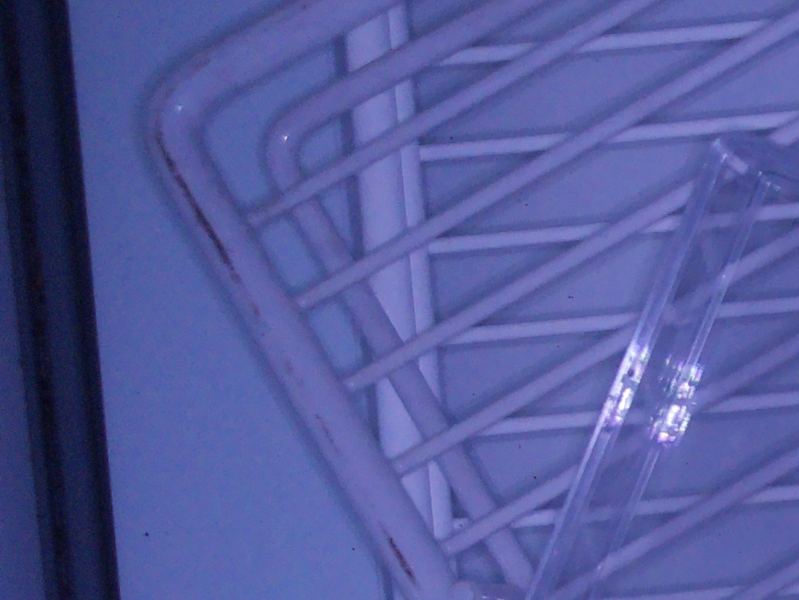plate: (522, 128, 799, 600)
